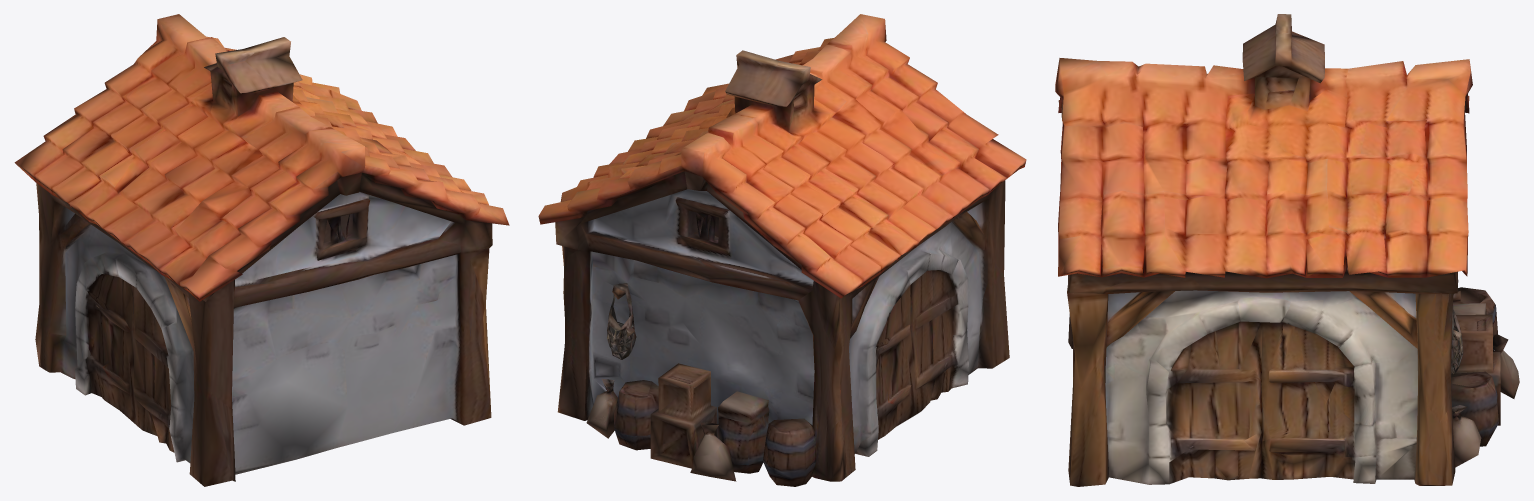
Rendered from storehouse_l3.glb.
3 views of the same model, side by side, from view 1: azimuth 30°, elevation 25°; view 2: azimuth 150°, elevation 25°; view 3: azimuth 270°, elevation 25° (orthographic). The views are drawn at different scales.
Parts seen in each view (by area): view 1: tripo_node_44165c0b-c698-444f-b3fe-088ca30295ef; view 2: tripo_node_44165c0b-c698-444f-b3fe-088ca30295ef; view 3: tripo_node_44165c0b-c698-444f-b3fe-088ca30295ef.
Part boxes in pixels (bbox=[...]): tripo_node_44165c0b-c698-444f-b3fe-088ca30295ef: bbox=[14, 14, 509, 486]; tripo_node_44165c0b-c698-444f-b3fe-088ca30295ef: bbox=[538, 14, 1026, 486]; tripo_node_44165c0b-c698-444f-b3fe-088ca30295ef: bbox=[1055, 14, 1519, 486].
Size of the model in its own units: 0.8669 by 0.8819 by 0.981.
1 material, 1 textured.
